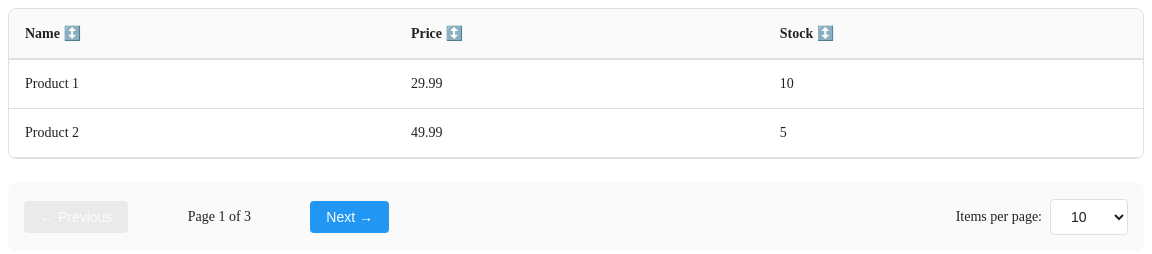
Test: Table Component › should change page when previous button is clicked
Click the button "Next →" at (350, 217), box [310, 201, 389, 233]
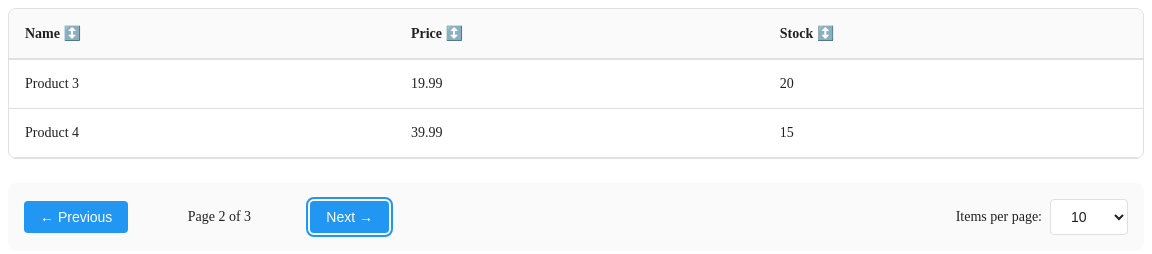
Result: the text "Product 3" is shown at [9, 59, 395, 108]
Click the button "← Previous" at (76, 217), box [24, 201, 128, 233]
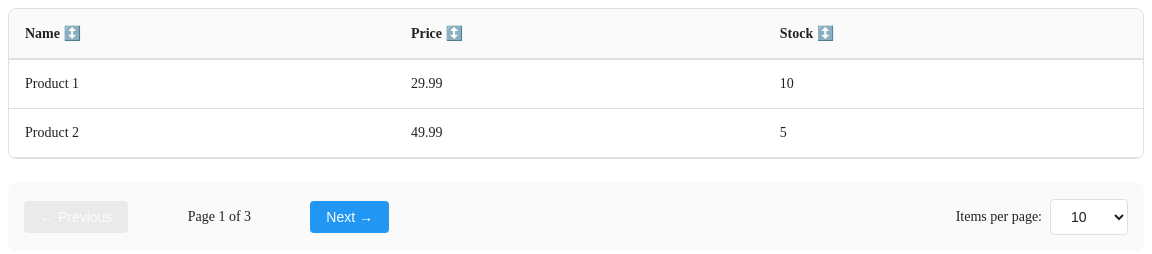
Result: the text "Product 1" is shown at [9, 59, 395, 108]
Result: the text "Product 3" is gone
